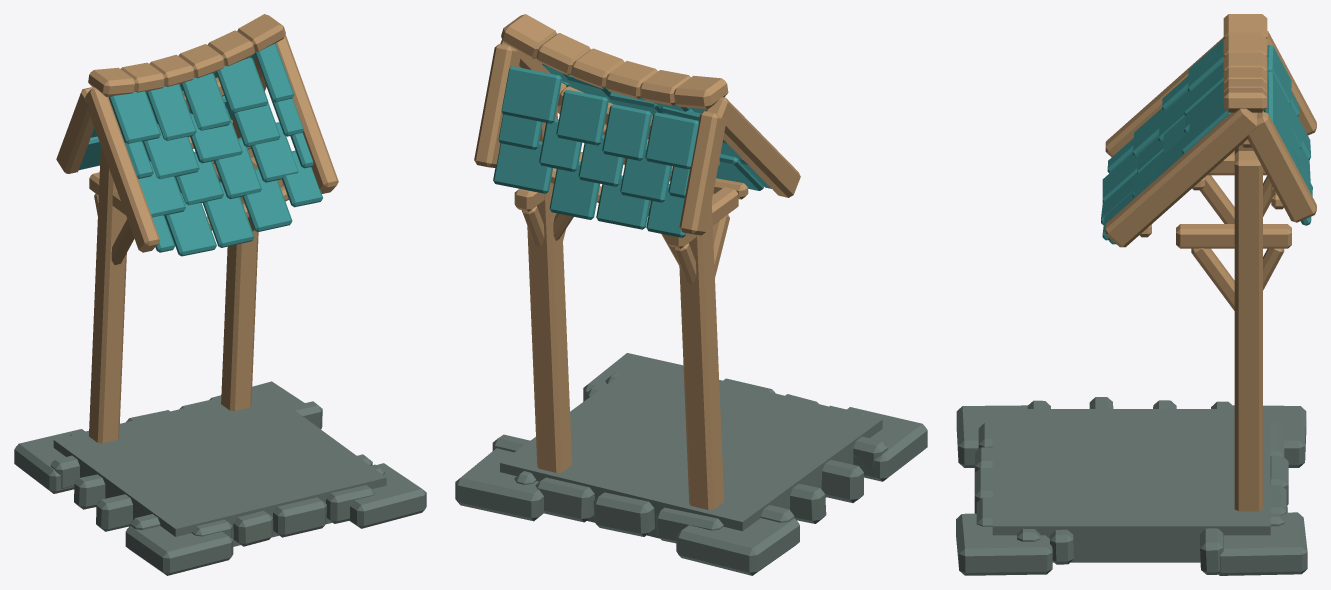
The model's file is water-point-roof.glb.
3 views of the same model, side by side, from view 1: azimuth 30°, elevation 25°; view 2: azimuth 150°, elevation 25°; view 3: azimuth 270°, elevation 25° (orthographic). The views are drawn at different scales.
Visible parts, largest first — view 1: roof_planks, basin_core, frame_timber, stones_bottom, ridge_board; view 2: frame_timber, basin_core, roof_planks, stones_bottom, ridge_board; view 3: basin_core, frame_timber, stones_bottom, roof_planks, ridge_board.
Boxes of the visible parts, x1=… form: roof_planks: x1=79, y1=44, x2=322, y2=256; basin_core: x1=53, y1=388, x2=386, y2=546; frame_timber: x1=56, y1=34, x2=338, y2=443; stones_bottom: x1=14, y1=381, x2=426, y2=575; ridge_board: x1=88, y1=14, x2=285, y2=96; frame_timber: x1=474, y1=39, x2=800, y2=509; basin_core: x1=500, y1=360, x2=882, y2=538; roof_planks: x1=493, y1=63, x2=771, y2=237; stones_bottom: x1=455, y1=353, x2=927, y2=575; ridge_board: x1=501, y1=14, x2=728, y2=109; basin_core: x1=992, y1=409, x2=1270, y2=562; frame_timber: x1=1105, y1=31, x2=1316, y2=511; stones_bottom: x1=956, y1=397, x2=1307, y2=575; roof_planks: x1=1101, y1=39, x2=1312, y2=244; ridge_board: x1=1223, y1=14, x2=1267, y2=112.
Size of the model in its own units: 2.12 by 3.09 by 2.16.
